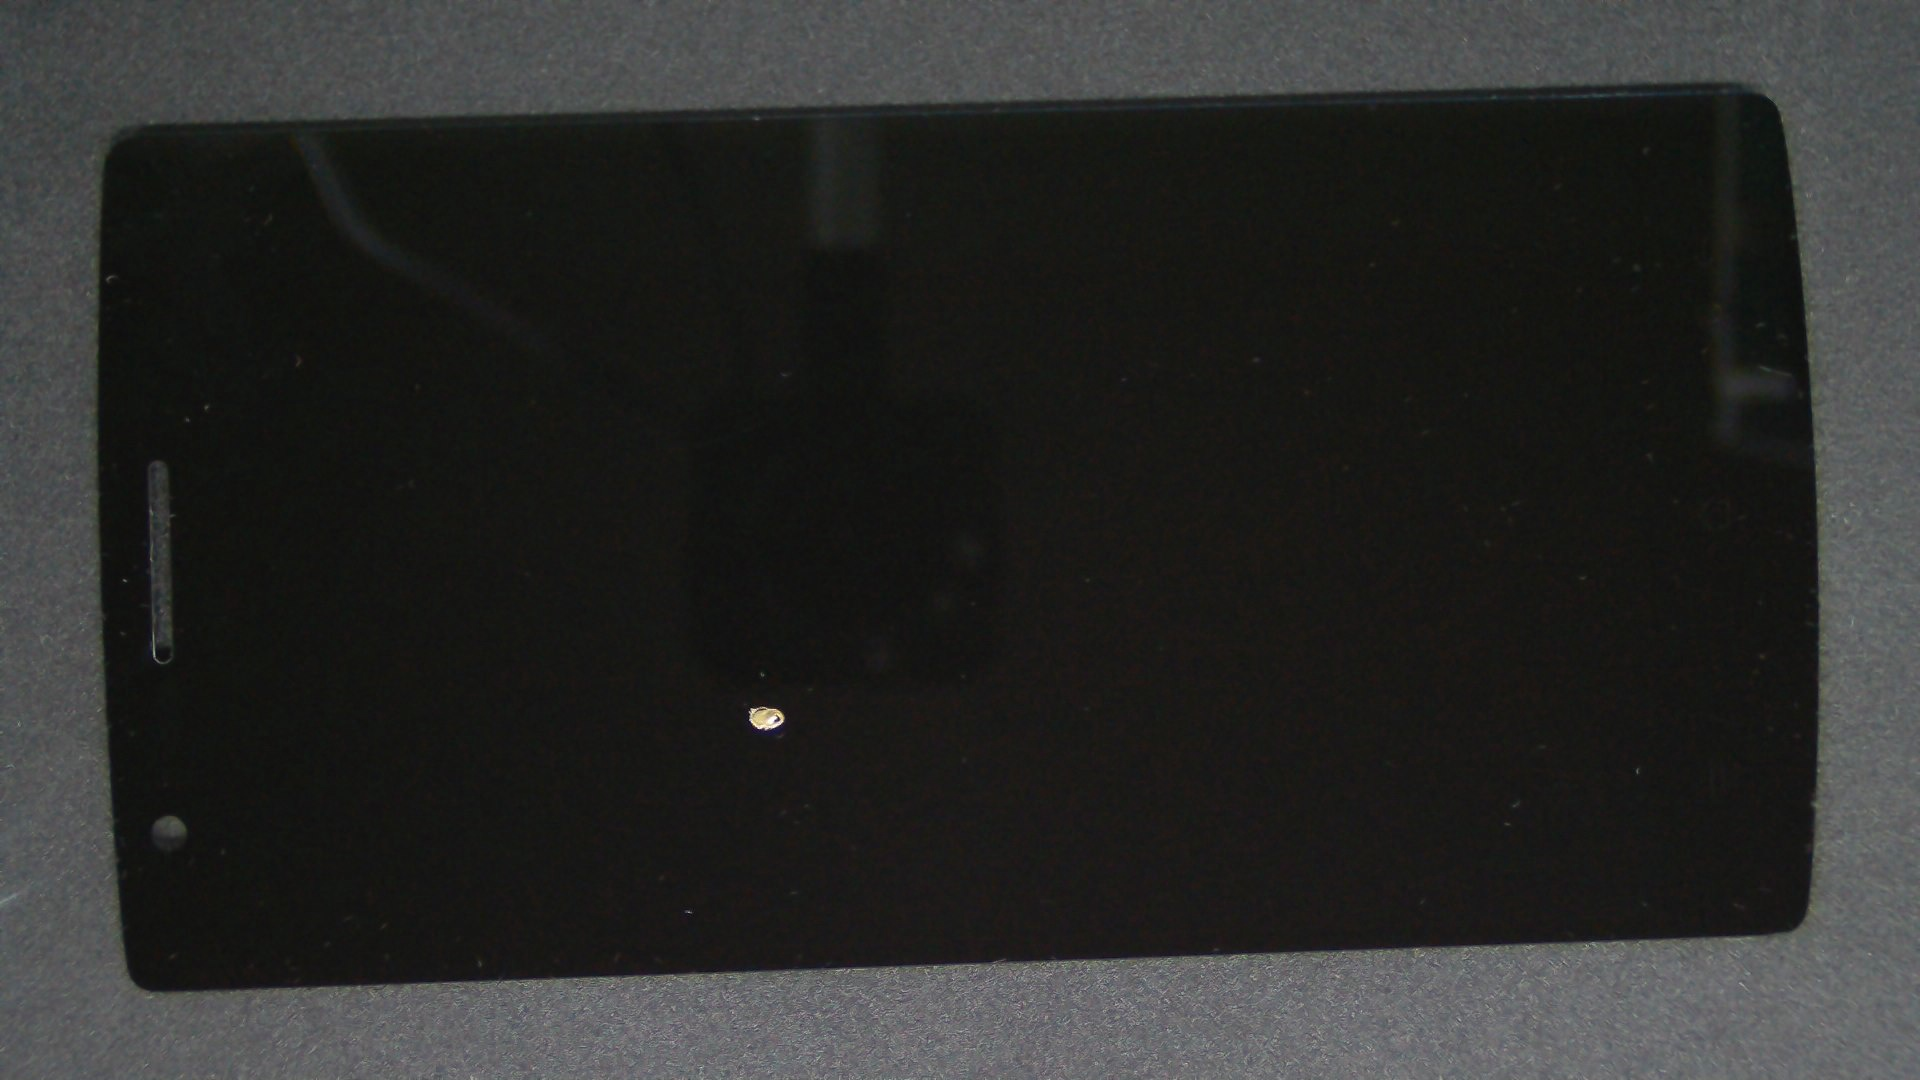oil: (380, 352, 1137, 1058)
